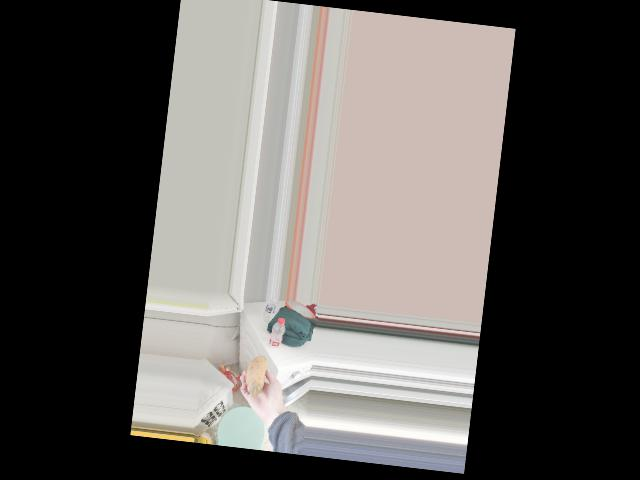sweet_potato: (245, 344, 268, 394)
